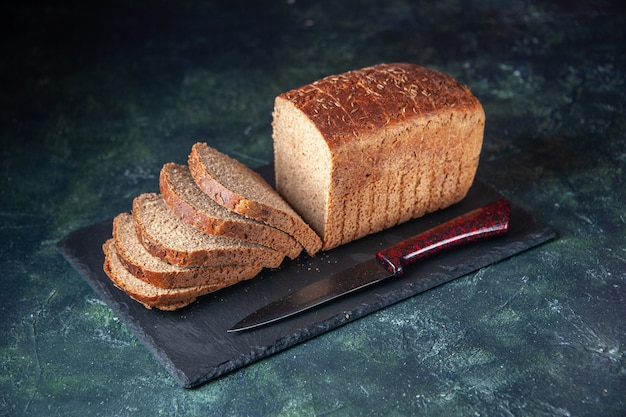knife: (226, 196, 512, 334)
